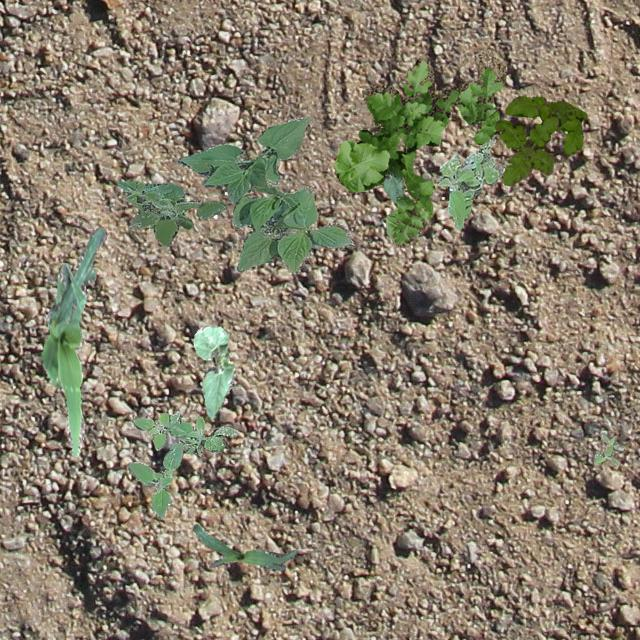crop: (176, 116, 354, 272), (40, 225, 106, 456), (192, 524, 296, 570), (192, 324, 235, 416), (382, 164, 402, 203)
weed: (333, 48, 504, 246), (126, 410, 238, 518), (494, 94, 586, 184), (116, 180, 225, 244), (436, 136, 506, 230), (592, 432, 624, 466)
